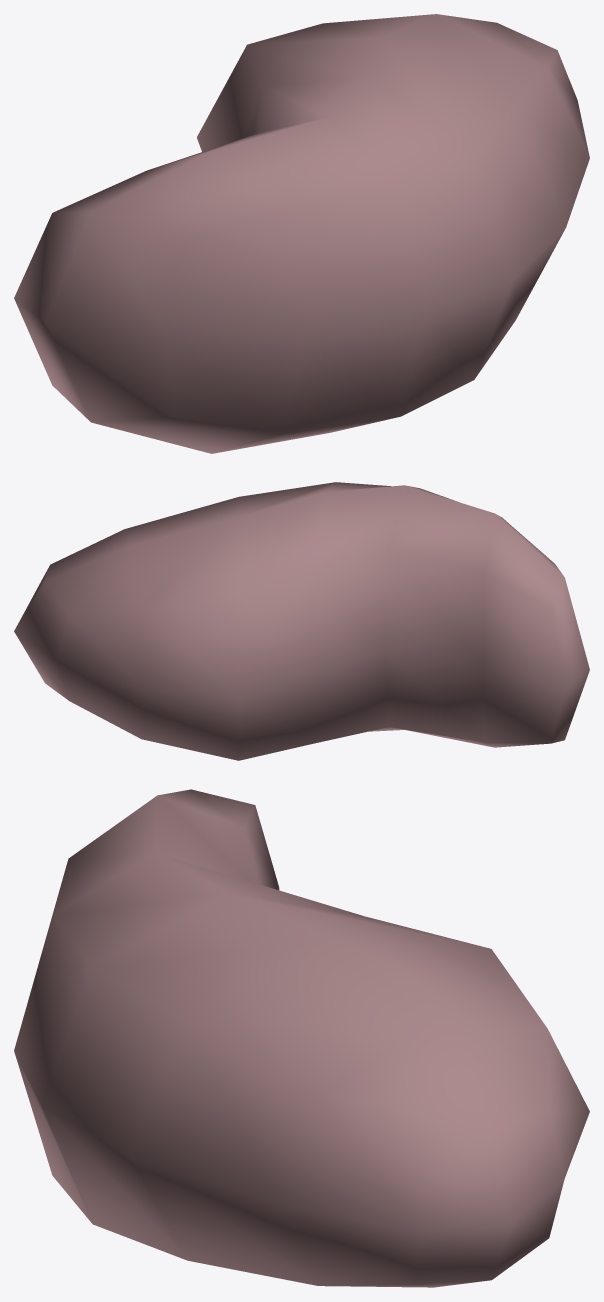
The model's file is STOMACH.fbx.
3 views of the same model, one above another, from view 1: azimuth 30°, elevation 25°; view 2: azimuth 150°, elevation 25°; view 3: azimuth 270°, elevation 25° (orthographic). The views are drawn at different scales.
Parts seen in each view (by area): view 1: STOMACH; view 2: STOMACH; view 3: STOMACH.
Part boxes in pixels (box(x1,y1,x2,y2)): STOMACH: box(14, 14, 589, 453); STOMACH: box(14, 482, 589, 760); STOMACH: box(14, 789, 589, 1287).
Bounding box in the file's own units: 247 × 119 × 174.
